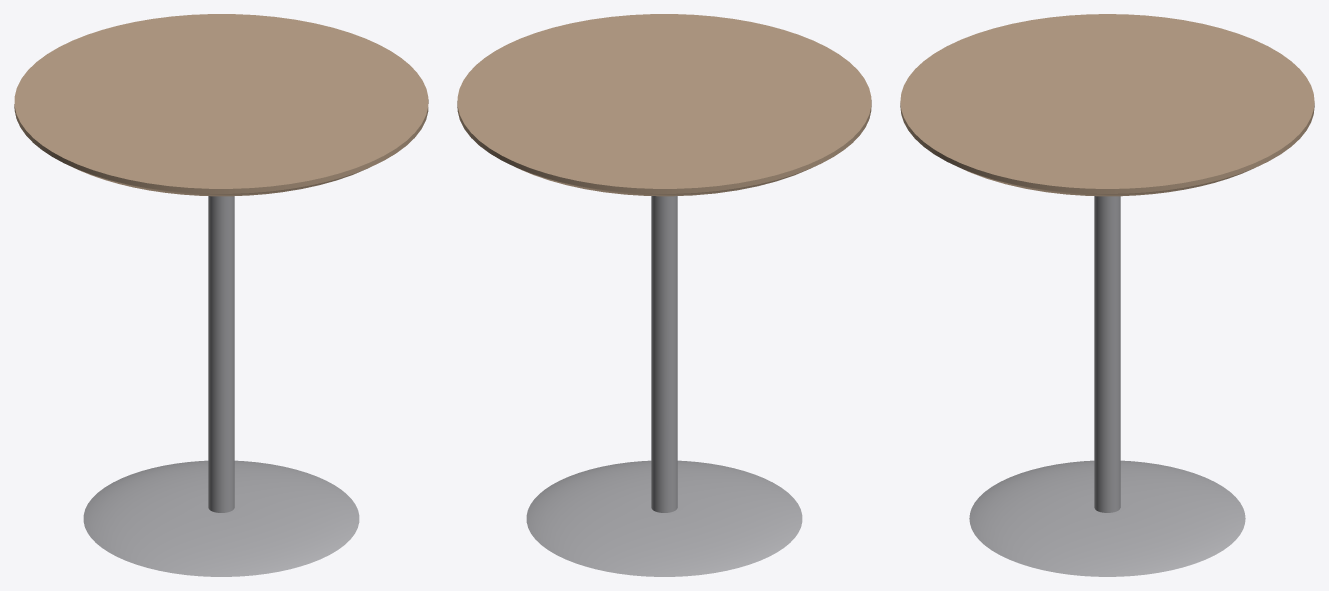
File: 358_サイドテーブル.glb
3 renders of one model, left to right at view 1: azimuth 30°, elevation 25°; view 2: azimuth 150°, elevation 25°; view 3: azimuth 270°, elevation 25°, orthographic.
Parts seen in each view (by area): view 1: Body1; view 2: Body1; view 3: Body1.
Part boxes in pixels (x1,y1,x2,y2): Body1: (14,14,428,576); Body1: (457,14,871,576); Body1: (900,14,1314,576).
Bounding box in the file's own units: 0.45 × 0.5 × 0.45.
